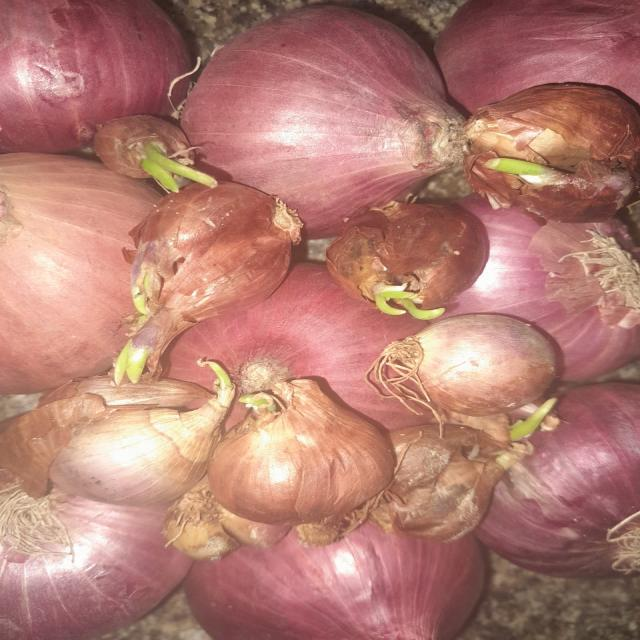sprouting: (124, 138, 228, 204), (362, 282, 472, 332), (114, 312, 181, 388), (480, 150, 573, 187), (520, 377, 558, 455)
